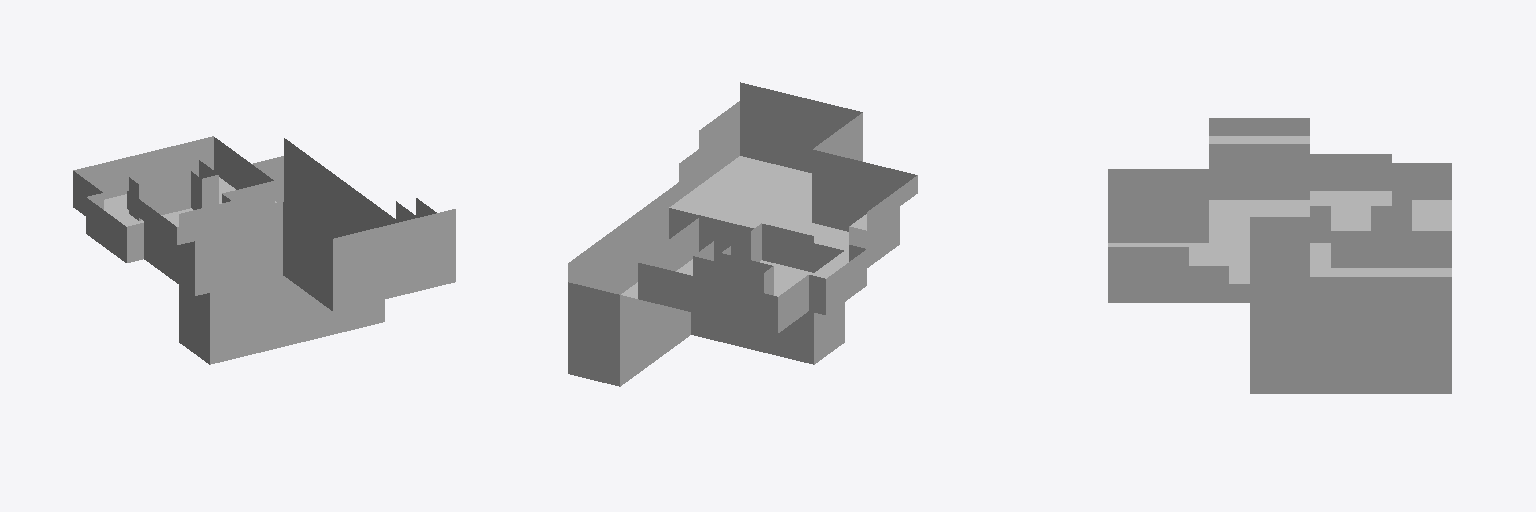
3 views of the same model, side by side, from view 1: azimuth 30°, elevation 25°; view 2: azimuth 150°, elevation 25°; view 3: azimuth 270°, elevation 25° (orthographic).
Parts seen in each view (by area): view 1: Плоскость; view 2: Плоскость; view 3: Плоскость.
Part boxes in pixels (bbox=[...]): Плоскость: bbox=[73, 136, 455, 364]; Плоскость: bbox=[568, 82, 917, 386]; Плоскость: bbox=[1108, 118, 1451, 393].
Size of the model in its own units: 13 by 9 by 17.